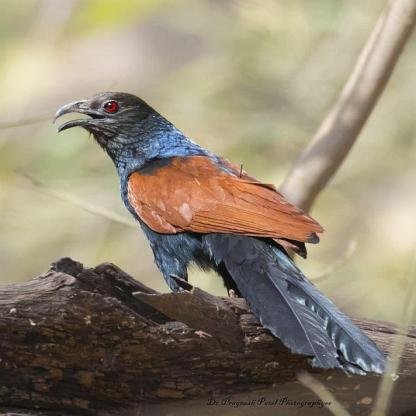Burung: (51, 91, 389, 377)
